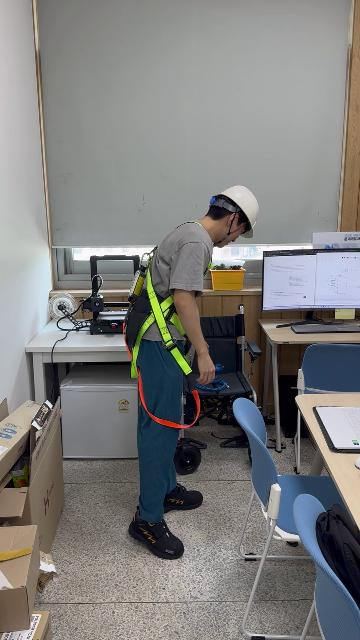helmet_worn: (211, 184, 260, 238)
shoe_worn: (128, 507, 184, 559), (162, 483, 203, 510)
vest_worn: (118, 240, 203, 422)
